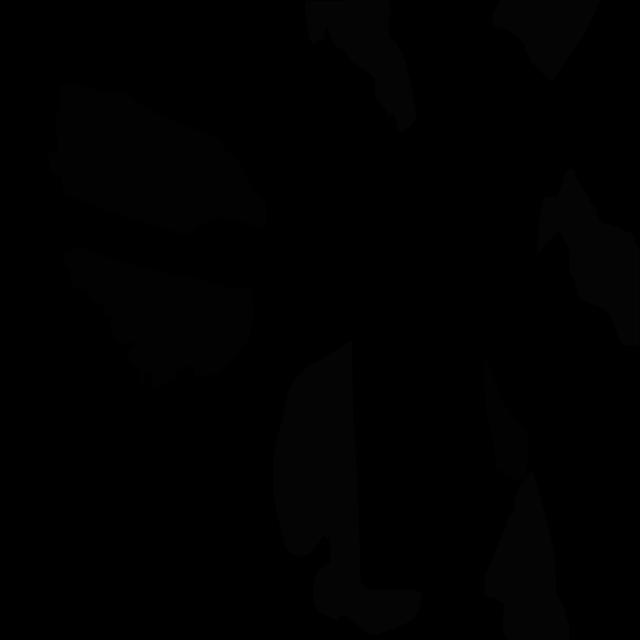cardboard: (48, 82, 268, 236), (62, 247, 254, 391), (484, 356, 528, 481)
soft_plastic: (273, 340, 423, 634), (537, 169, 640, 348), (304, 0, 416, 133), (484, 470, 570, 640), (492, 0, 601, 81)
